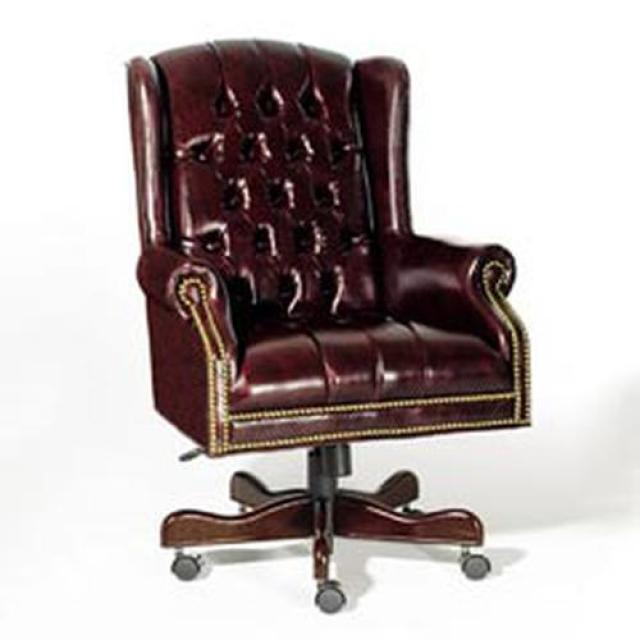swivelchair: (125, 38, 532, 617)
